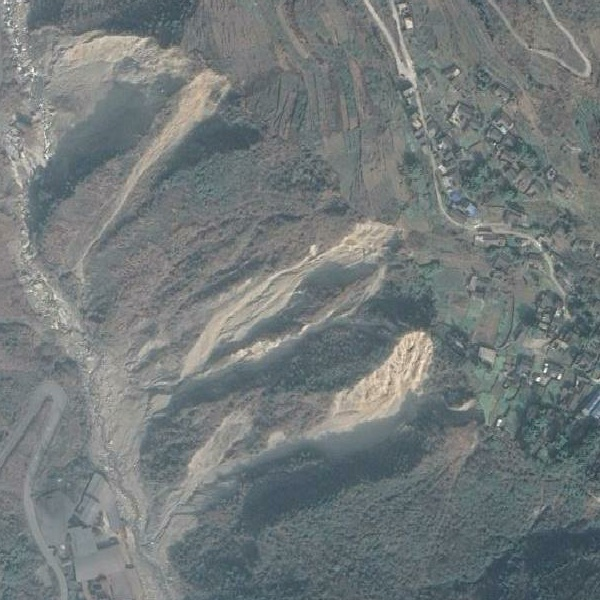slope: (185, 221, 402, 377), (34, 25, 200, 175), (108, 74, 259, 220), (322, 327, 437, 422), (174, 409, 264, 506)
